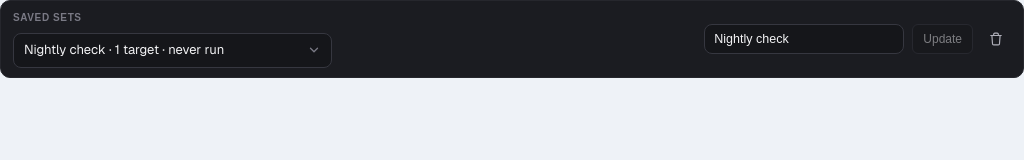
Test: when Save is off › is on again once the name's capitals are corrected
Replace the text in the field named "Comparison set name" with "nightly check". click: [804, 39]
box: [704,24,904,54]
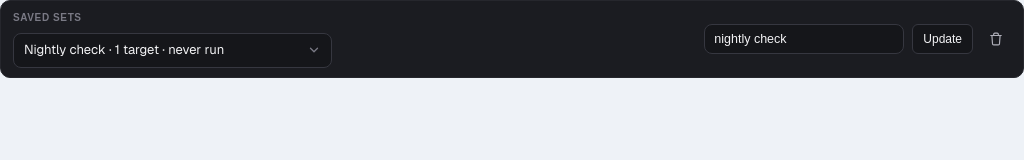
Check: the button "Update" is shown, box [912,24,973,54]
Check: the button "Update" is enabled, box [912,24,973,54]
